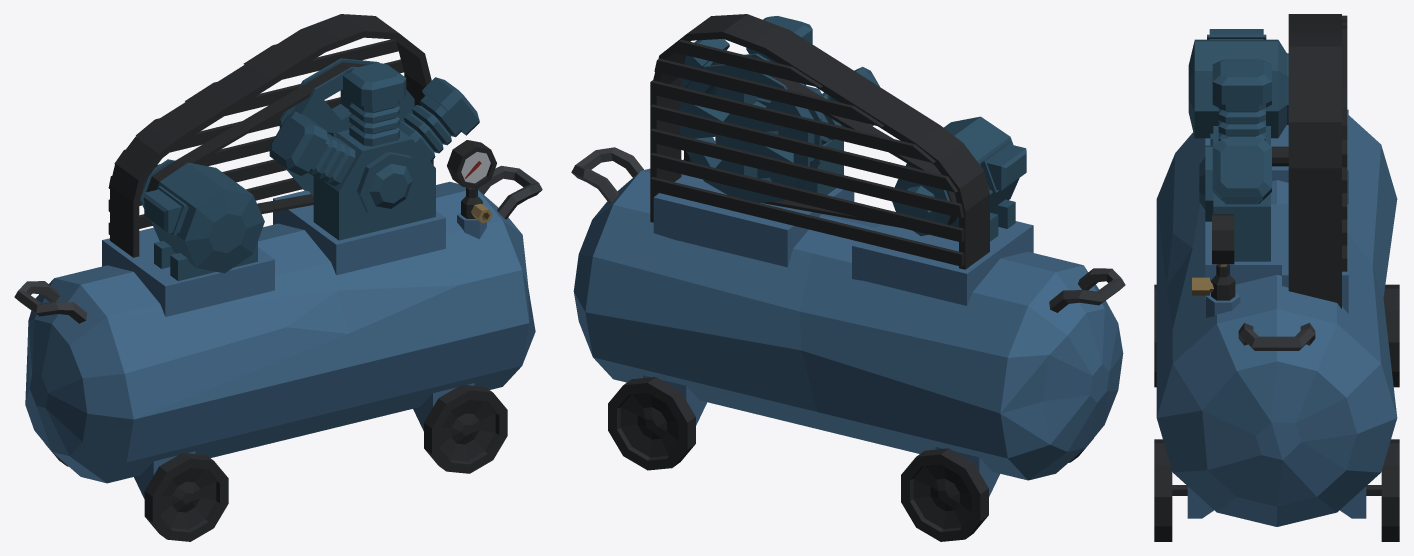
Rendered from SM_Prop_Compressor_01.fbx.
The picture shows the model from 3 angles, left to right: view 1: azimuth 30°, elevation 25°; view 2: azimuth 150°, elevation 25°; view 3: azimuth 270°, elevation 25°; orthographic projection. The views are drawn at different scales.
Visible parts, largest first — view 1: SM_Prop_Compressor_01; view 2: SM_Prop_Compressor_01; view 3: SM_Prop_Compressor_01.
Part boxes in pixels (x1,y1,x2,y2): SM_Prop_Compressor_01: [14, 14, 542, 541]; SM_Prop_Compressor_01: [571, 14, 1125, 541]; SM_Prop_Compressor_01: [1154, 14, 1399, 541].
Bounding box in the file's own units: 125 × 96.89 × 46.24.
